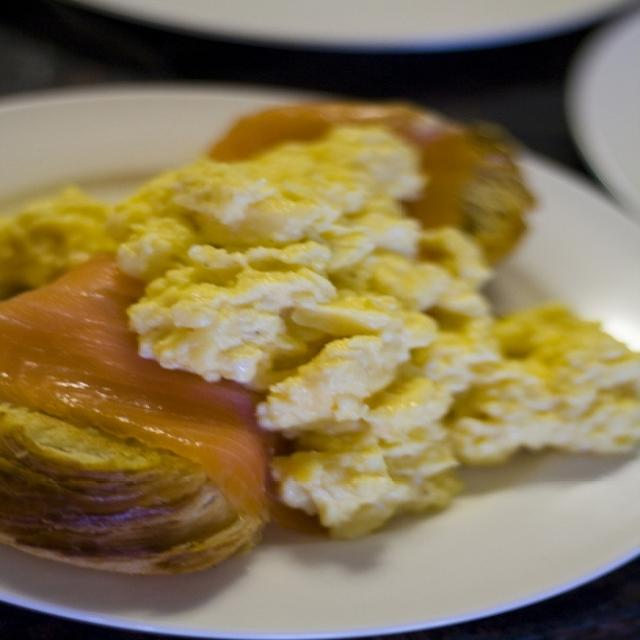鸡蛋料理: (13, 64, 629, 602)
